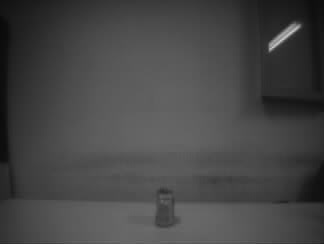Tin can: (154, 187, 176, 228)
